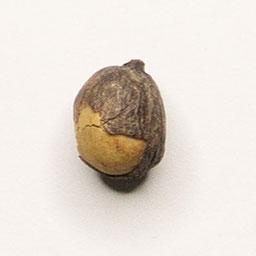defect: (67, 48, 175, 186)
